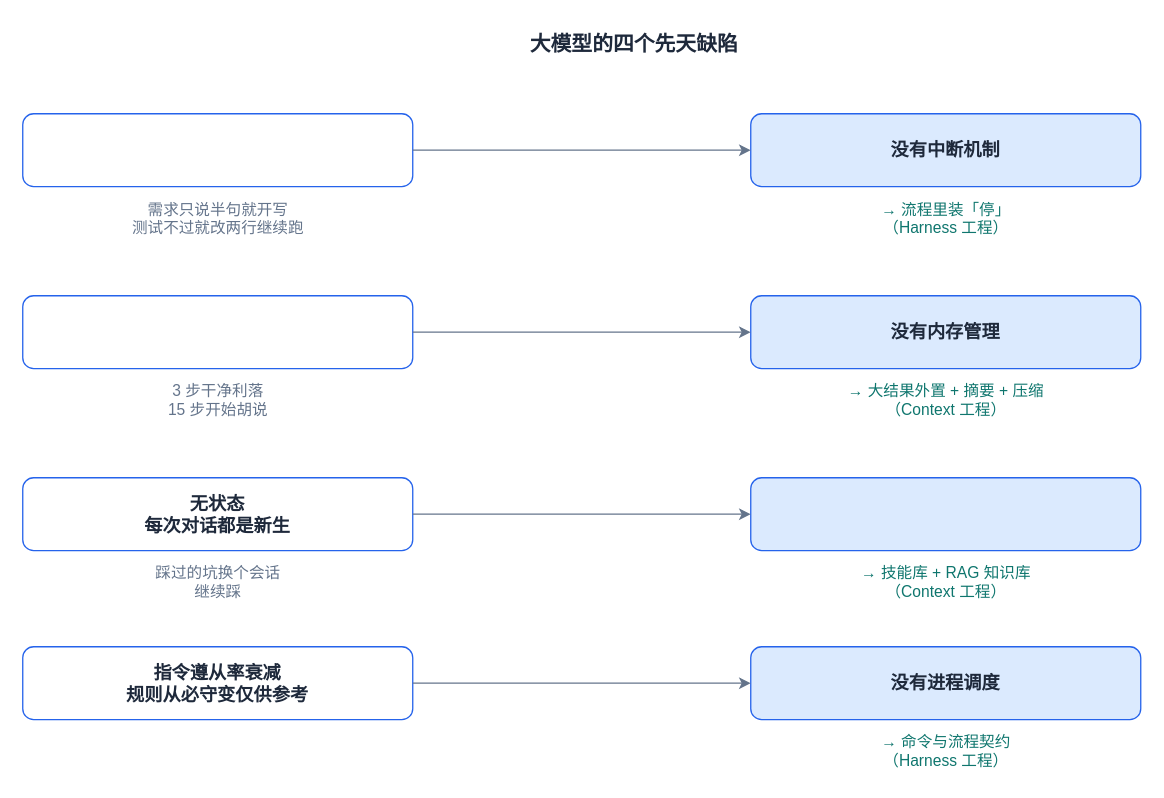
The diagram is 1164 pixels wide and 798 high, and some of its shapes have lost their labels. Each missing label, with the centre of its shape:
上下文窗口稀缺 长任务必然掉质量: point (217, 331)
有输入就输出 没人喊停就一直干: point (217, 149)
没有文件系统: point (945, 513)
